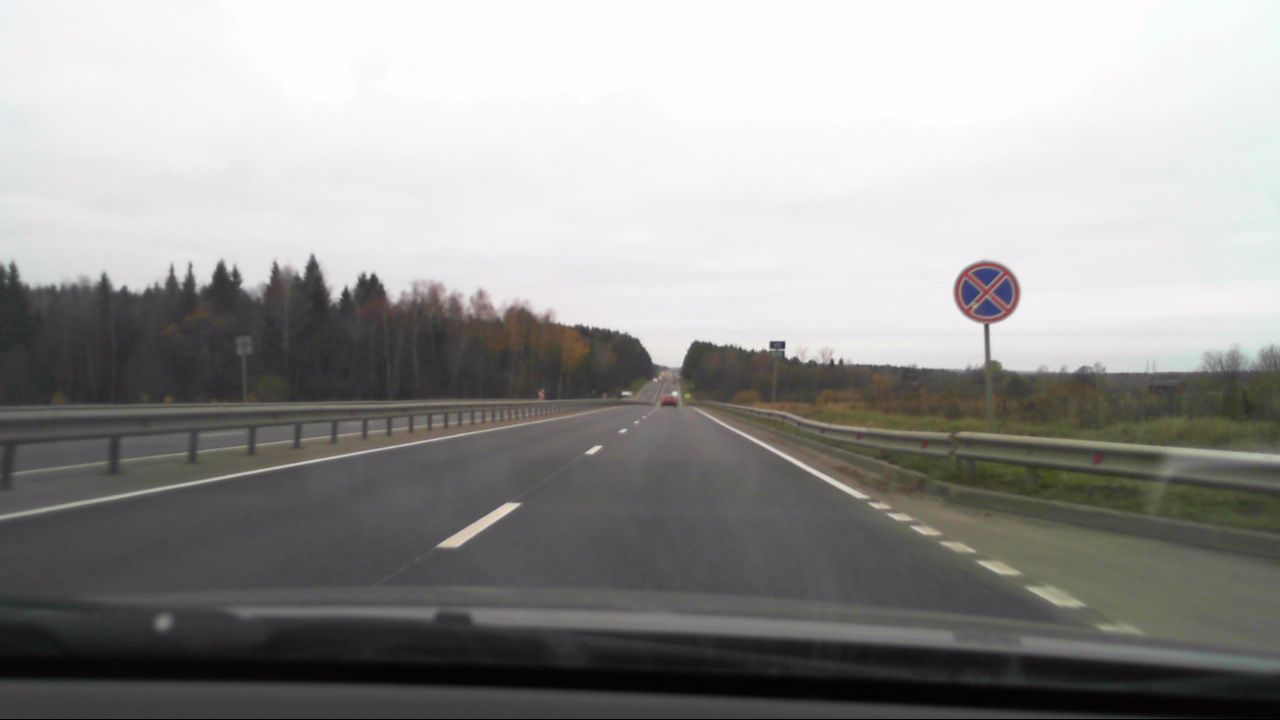No Parking: (955, 261, 1020, 322)
